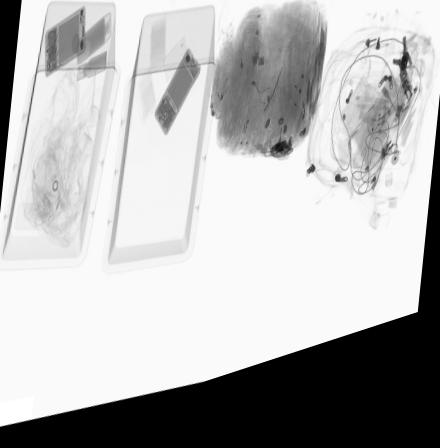Lighter: (241, 121, 254, 151)
